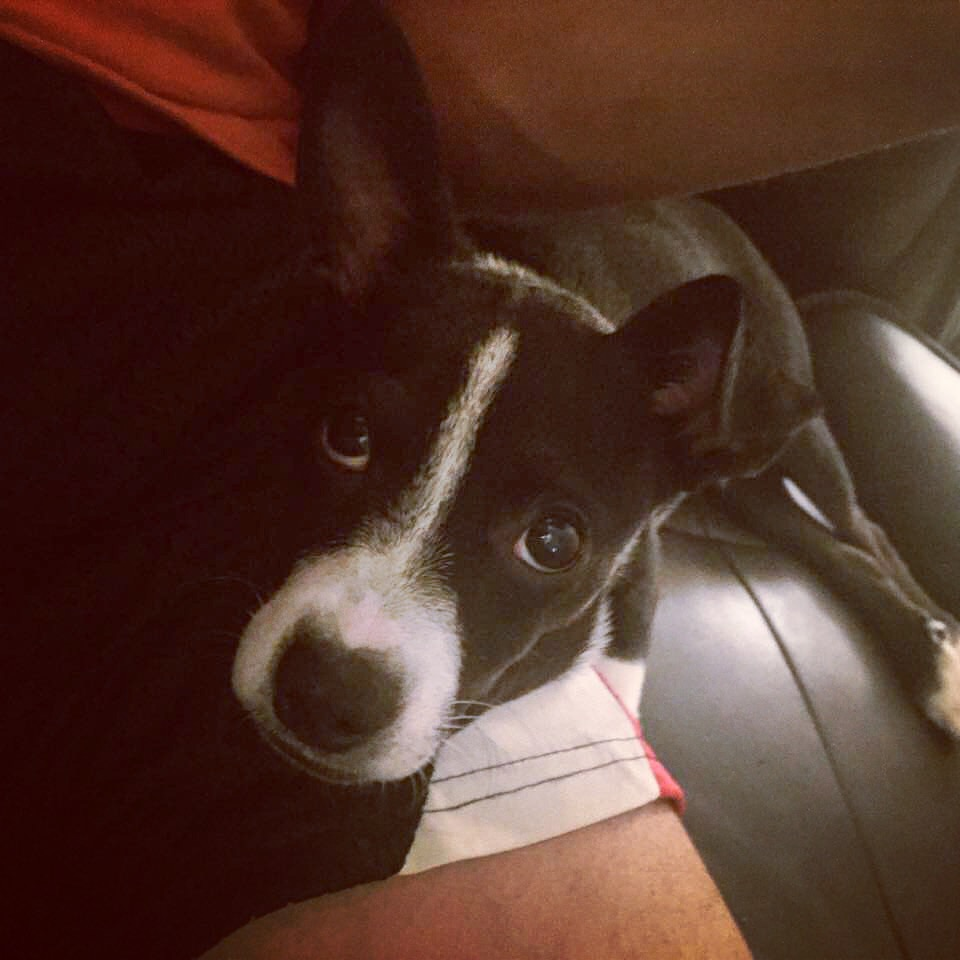Harley: (217, 1, 844, 812)
